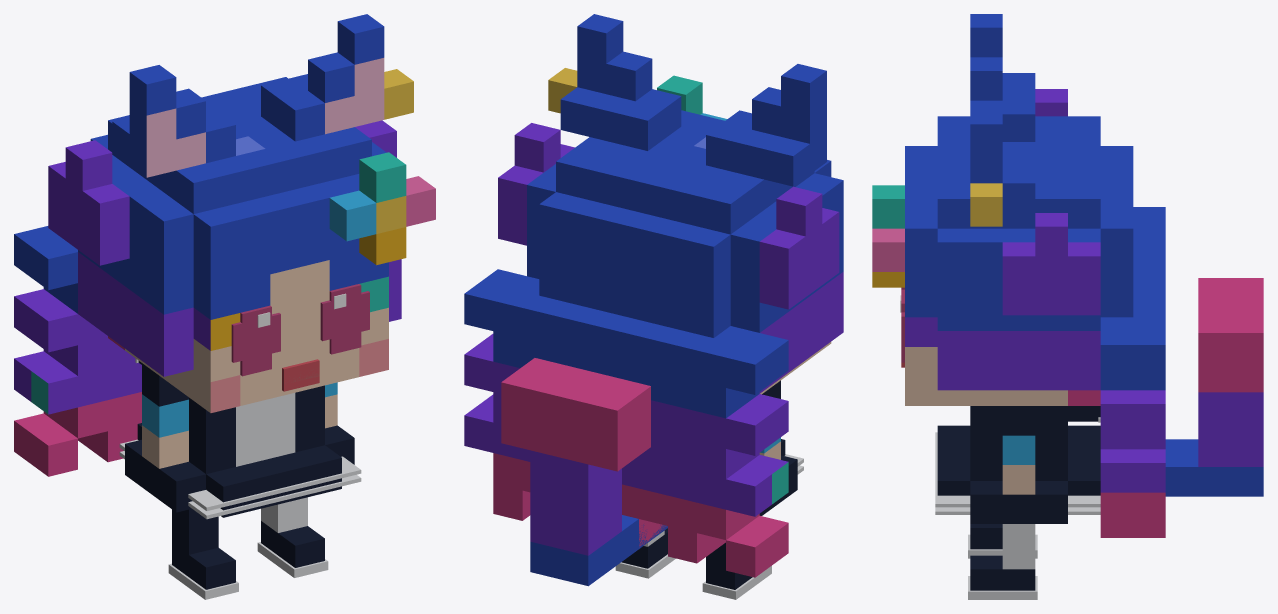
Rendered from gemini.glb.
3 renders of one model, left to right at view 1: azimuth 30°, elevation 25°; view 2: azimuth 150°, elevation 25°; view 3: azimuth 270°, elevation 25°, orthographic. The views are drawn at different scales.
Visible parts, largest first — view 1: head, hairback, body, footB, armB, footA, face_happy, face_open, face_tight, armA; view 2: head, hairback, tail, footB, footA, body; view 3: head, hairback, tail, body, footA, armA, footB.
Part boxes in pixels (x1,y1,x2,y2): head: (48,14,435,412); hairback: (14,226,141,476); body: (119,358,361,519); footB: (168,509,238,599); armB: (142,363,188,468); footA: (257,497,328,577); face_happy: (231,291,369,391); face_open: (240,284,361,376); face_tight: (232,308,369,383); armA: (325,382,337,428); head: (498,14,843,394); hairback: (464,269,788,577); tail: (501,358,667,586); footB: (702,542,771,599); footA: (615,528,675,578); body: (759,439,803,515); head: (872,14,1133,405); hairback: (1100,207,1165,537); tail: (1165,278,1263,496); body: (935,406,1100,523); footA: (968,524,1037,599); armA: (1002,406,1035,494); footB: (968,524,1037,558).
Bounding box in the file's own units: 0.7 × 1.19 × 0.84.
